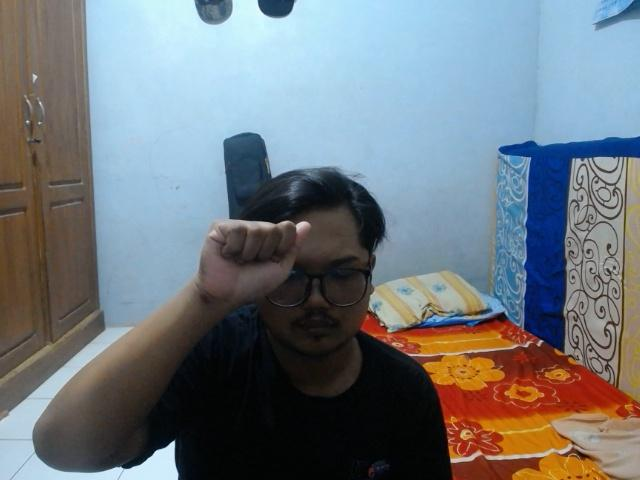Grab: (196, 212, 314, 312)
